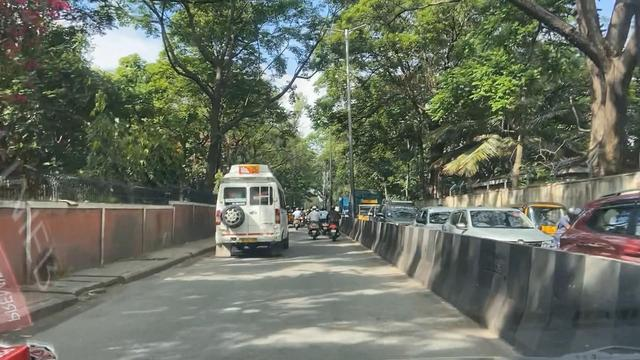HMV: (214, 164, 283, 257)
LMV: (326, 203, 341, 242), (307, 204, 319, 241)
